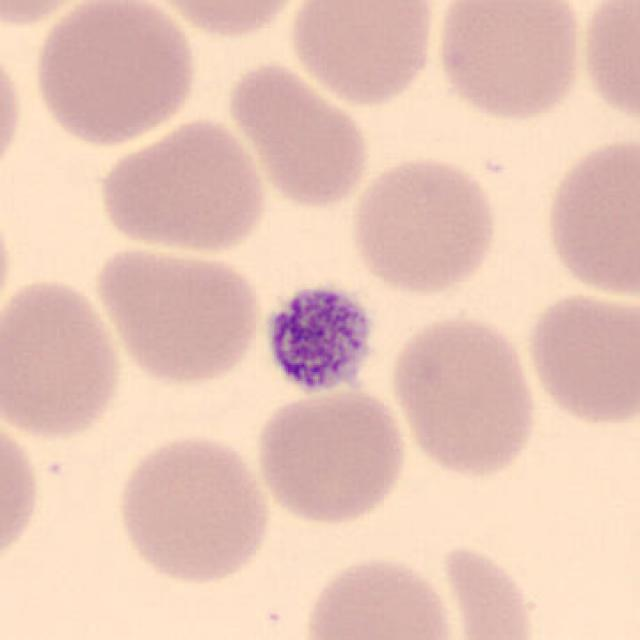Platelets: (258, 278, 378, 398)
RBC: (386, 310, 542, 482), (89, 240, 267, 390), (110, 429, 276, 587), (27, 0, 201, 150), (92, 115, 270, 258), (222, 56, 375, 212), (250, 381, 410, 529), (347, 150, 503, 298), (0, 273, 128, 443), (430, 0, 587, 125), (538, 130, 640, 301), (284, 0, 439, 109), (521, 288, 638, 430), (301, 552, 458, 640), (435, 539, 544, 640), (576, 0, 638, 130), (0, 408, 44, 578), (142, 0, 316, 41), (0, 37, 27, 190), (0, 0, 105, 30), (0, 189, 18, 340)
